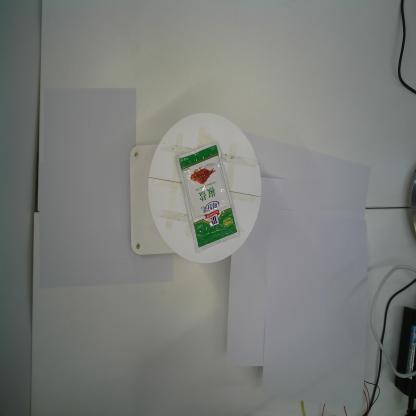Seasoner: (177, 140, 240, 253)
